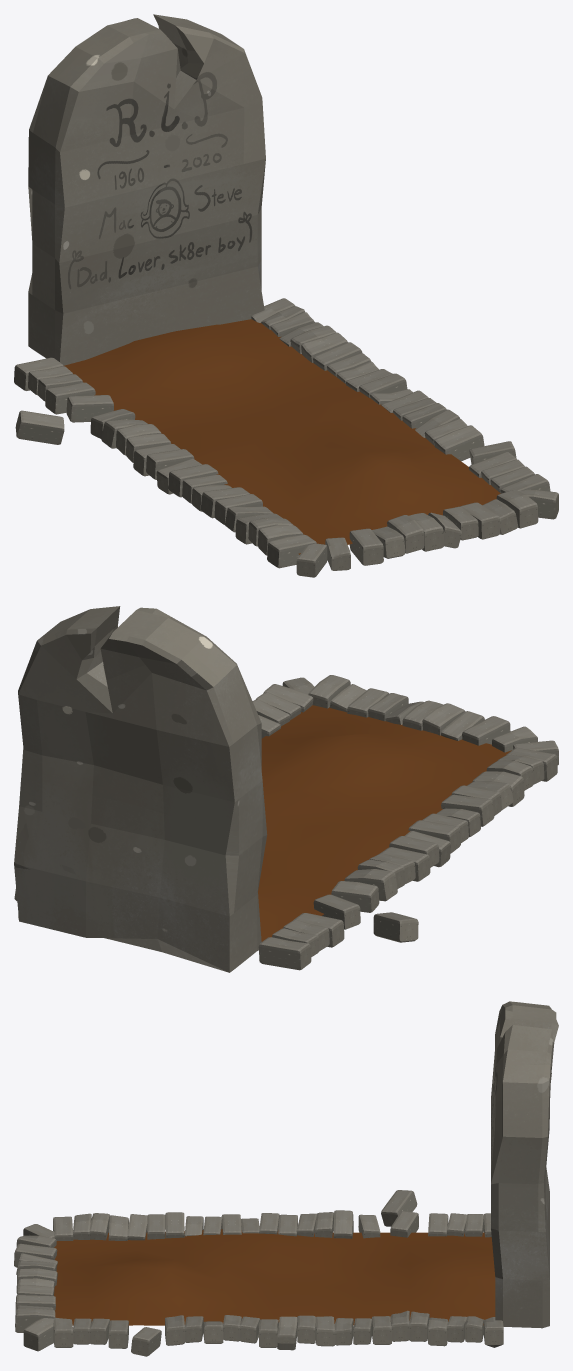
Rendered from Grave5.fbx.
3 renders of one model, top to bottom at view 1: azimuth 30°, elevation 25°; view 2: azimuth 150°, elevation 25°; view 3: azimuth 270°, elevation 25°, orthographic. The views are drawn at different scales.
Parts seen in each view (by area): view 1: Cube.215, Plane.046, Grave_5; view 2: Cube.215, Plane.046, Grave_5; view 3: Plane.046, Grave_5, Cube.215.
Boxes of the visible parts, left/top/right/bottom form: Cube.215: left=28, top=14, right=265, bottom=365; Plane.046: left=64, top=319, right=500, bottom=554; Grave_5: left=14, top=298, right=558, bottom=577; Cube.215: left=14, top=606, right=267, bottom=972; Plane.046: left=258, top=705, right=511, bottom=941; Grave_5: left=14, top=675, right=558, bottom=970; Plane.046: left=54, top=1229, right=495, bottom=1325; Grave_5: left=14, top=1190, right=503, bottom=1356; Cube.215: left=491, top=1001, right=558, bottom=1328.
Size of the model in its own units: 342 by 299 by 519.
